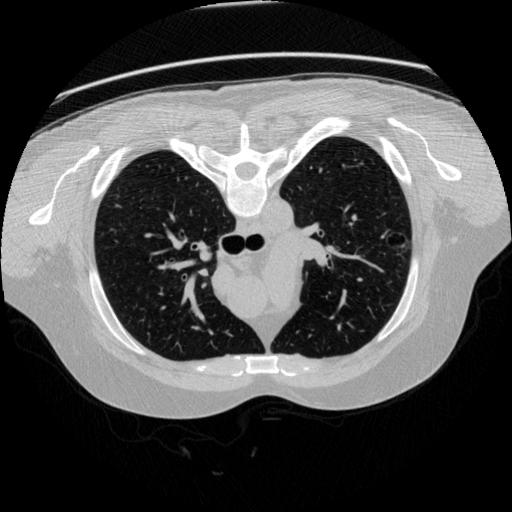nodule: (384, 229, 412, 257)
